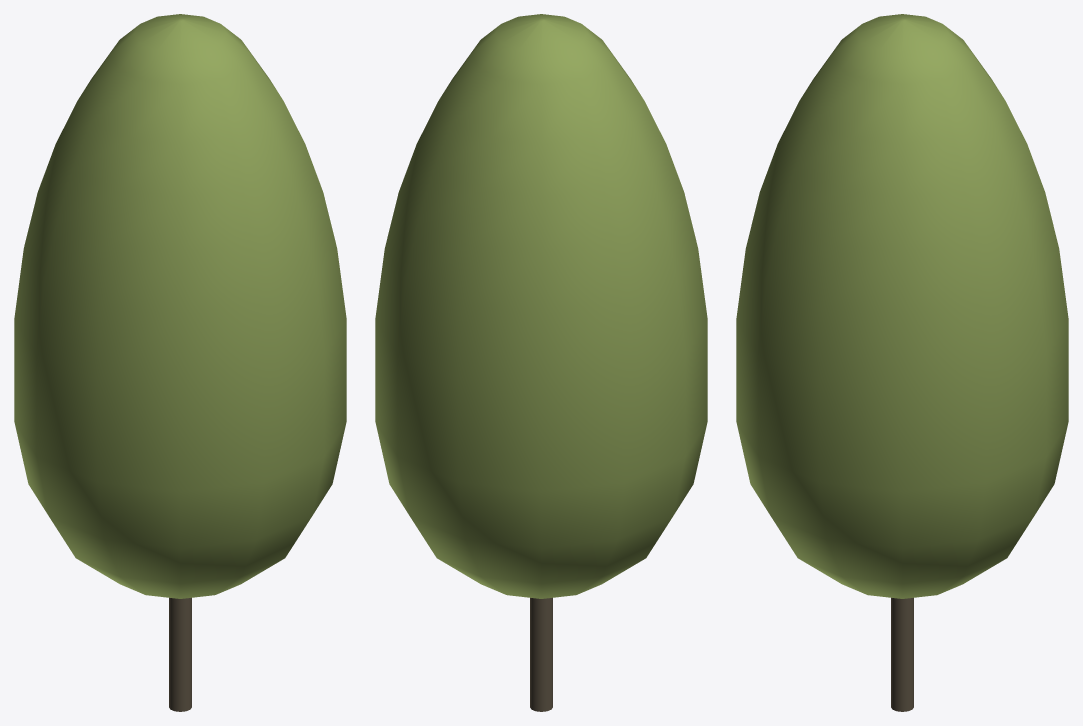
File: Sweetgum_Analytical_0.obj
3 views of the same model, side by side, from view 1: azimuth 30°, elevation 25°; view 2: azimuth 150°, elevation 25°; view 3: azimuth 270°, elevation 25° (orthographic).
Visible parts, largest first — view 1: AnalyticalCrown, AnalyticalTrunk; view 2: AnalyticalCrown, AnalyticalTrunk; view 3: AnalyticalCrown, AnalyticalTrunk.
Part boxes in pixels (bbox=[...]): AnalyticalCrown: bbox=[14, 14, 346, 598]; AnalyticalTrunk: bbox=[169, 598, 191, 711]; AnalyticalCrown: bbox=[375, 14, 707, 598]; AnalyticalTrunk: bbox=[530, 598, 552, 711]; AnalyticalCrown: bbox=[736, 14, 1068, 598]; AnalyticalTrunk: bbox=[891, 598, 913, 711].
Size of the model in its own units: 5.7 by 13 by 5.7.
